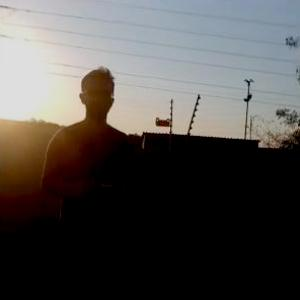follow: (38, 63, 140, 299)
